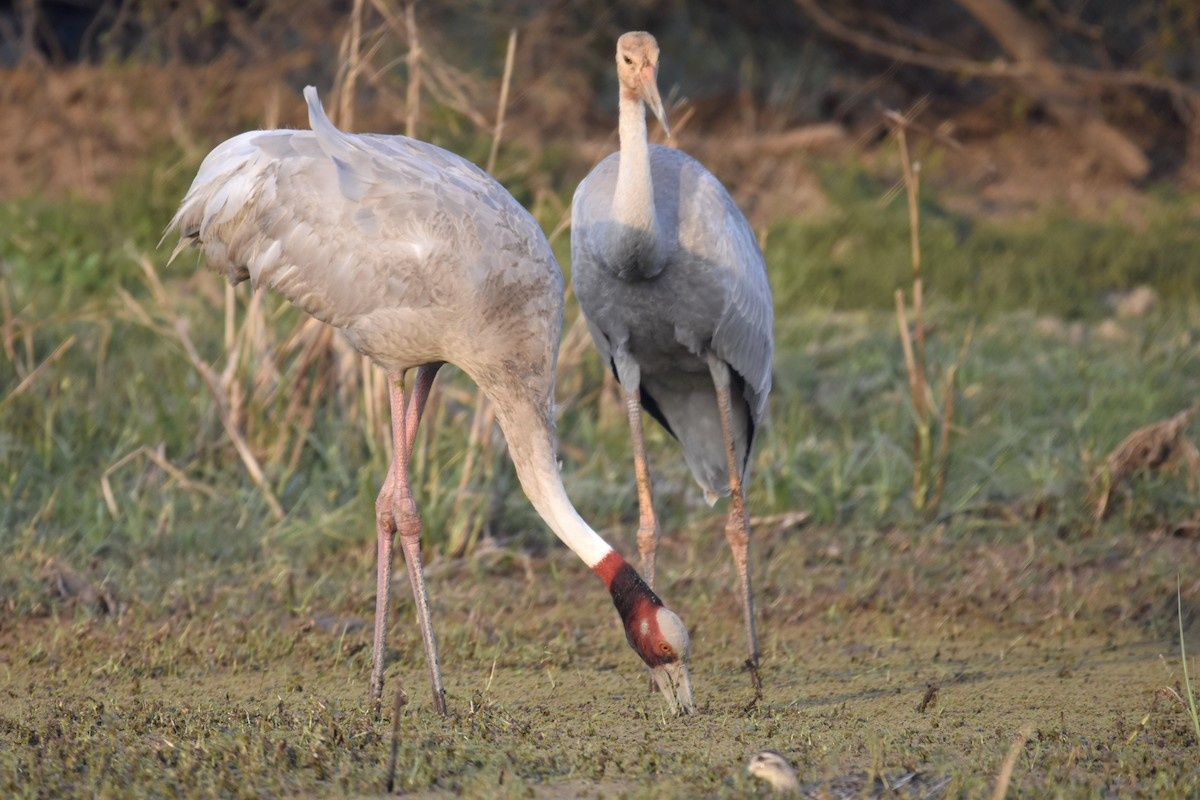crane: (163, 109, 673, 758), (561, 29, 793, 697)
